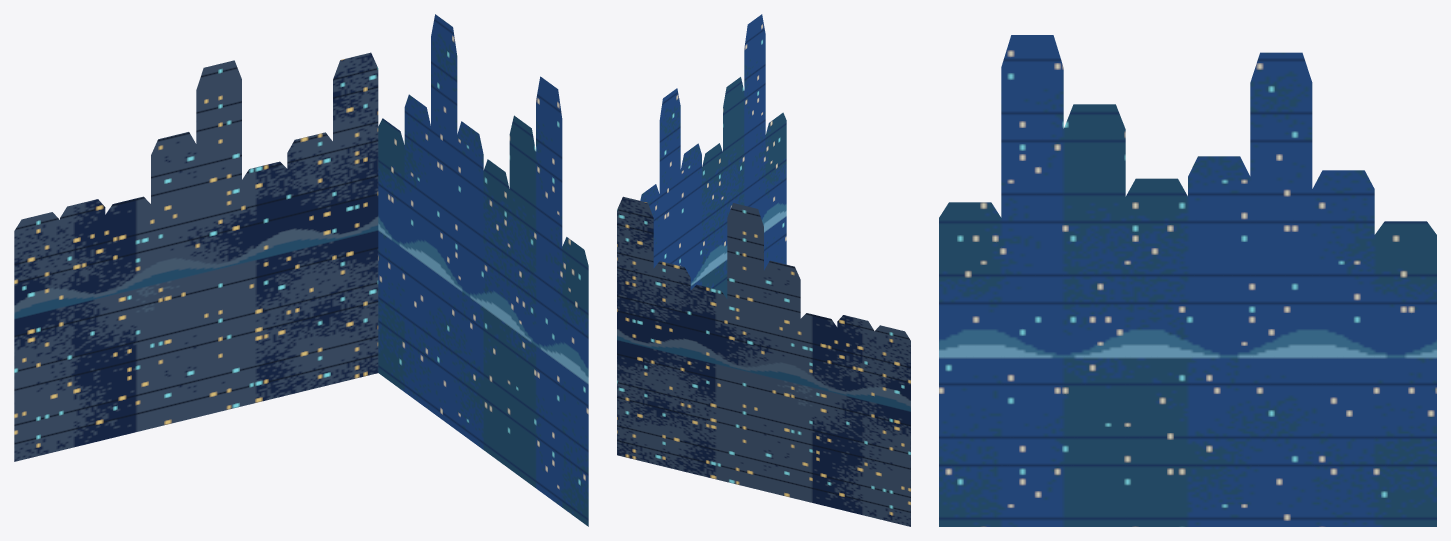
Rendered from cysky.corner.glb.
The picture shows the model from 3 angles, left to right: view 1: azimuth 30°, elevation 25°; view 2: azimuth 150°, elevation 25°; view 3: azimuth 270°, elevation 25°; orthographic projection. The views are drawn at different scales.
Visible parts, largest first — view 1: kit_card_skyline_a, kit_card_skyline_b; view 2: kit_card_skyline_a, kit_card_skyline_b; view 3: kit_card_skyline_b.
Boxes of the visible parts, <box> form: kit_card_skyline_a: <box>14,52,378,461</box>; kit_card_skyline_b: <box>378,14,588,526</box>; kit_card_skyline_a: <box>617,196,910,526</box>; kit_card_skyline_b: <box>640,14,786,298</box>; kit_card_skyline_b: <box>939,35,1436,526</box>.
Size of the model in its own units: 32 by 34.88 by 32.
Materials: 2 (2 with a texture image).
